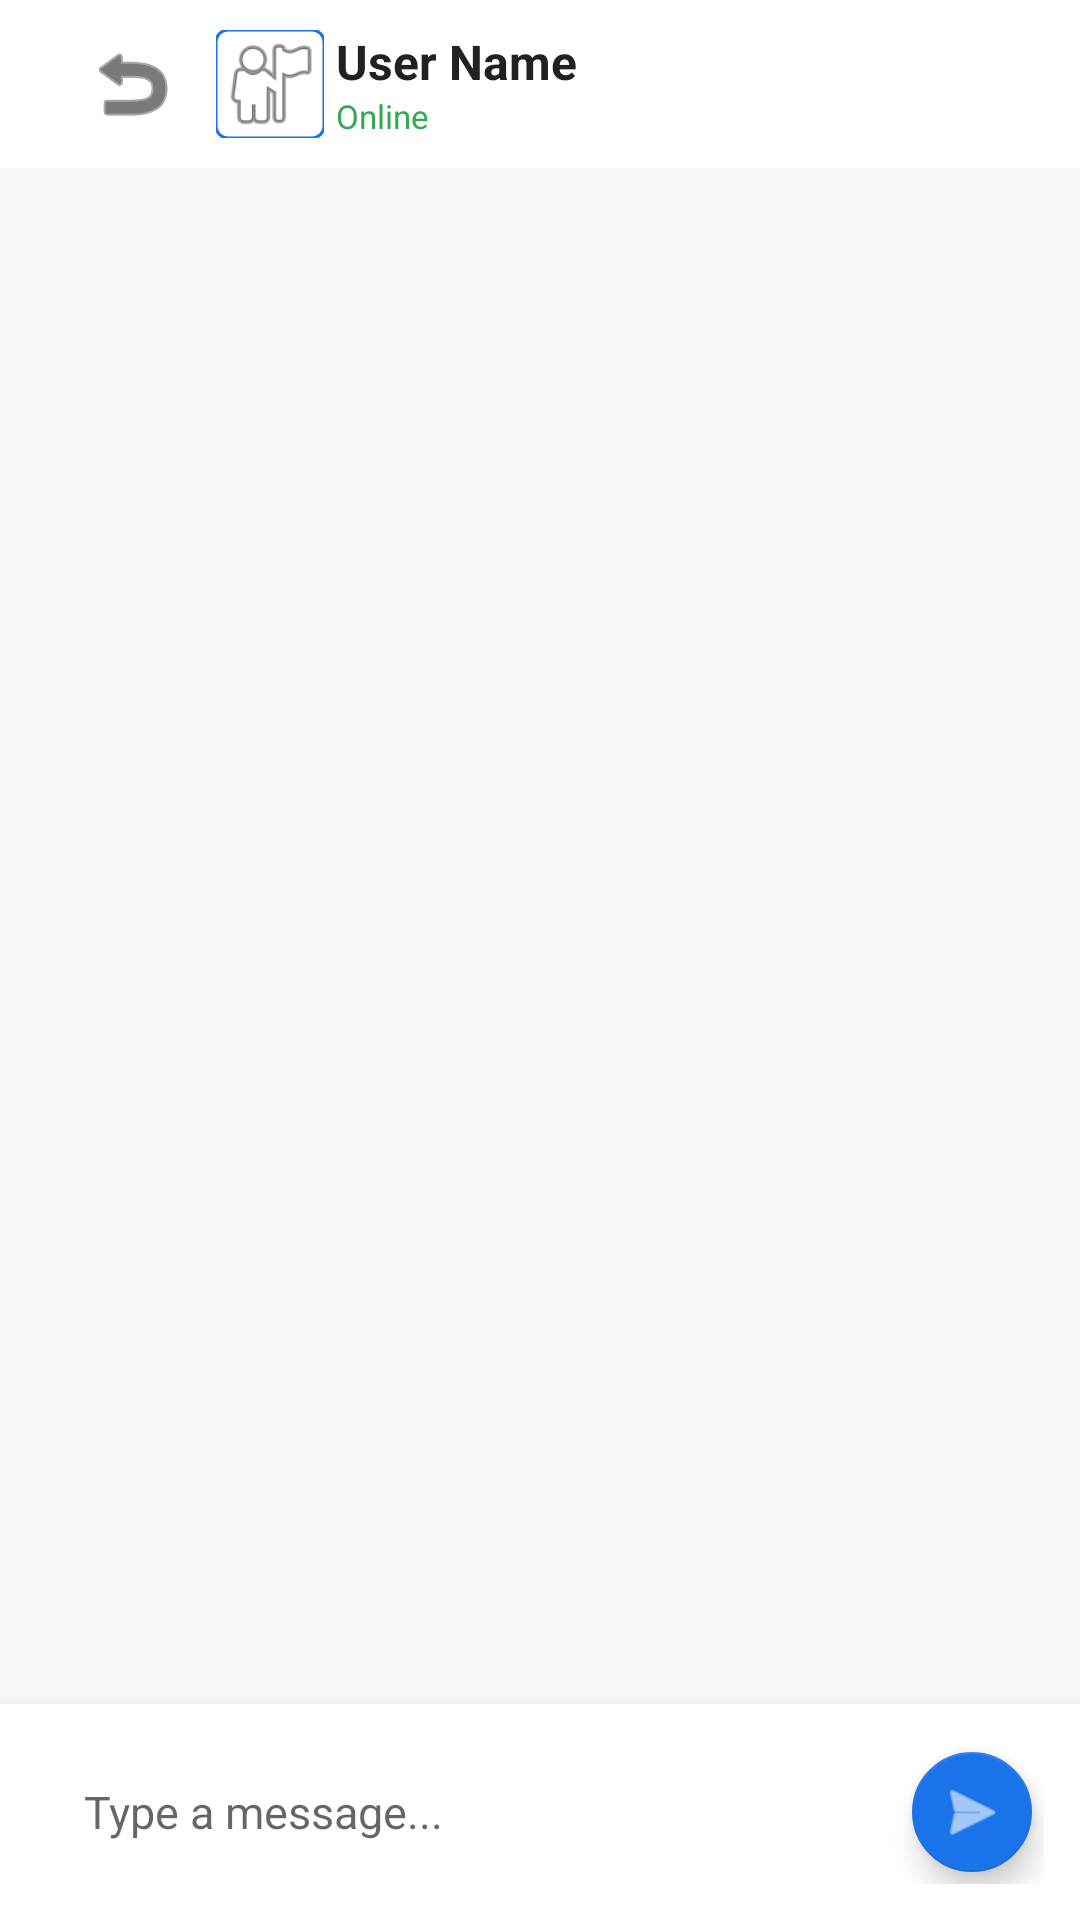

Where icons sit on this 1080 x 1920 app screen, as bbox=[x1, y1, x2, y2]:
myplaces: bbox=[216, 30, 324, 138]
revert: bbox=[99, 53, 168, 116]
send: bbox=[912, 1752, 1035, 1884]
